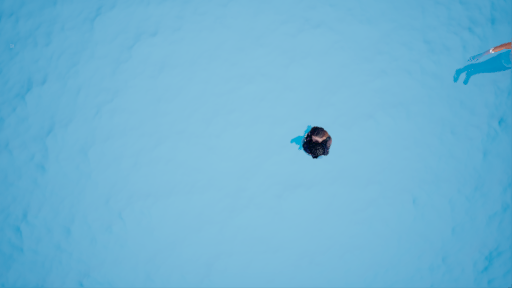person: (285, 124, 335, 162)
